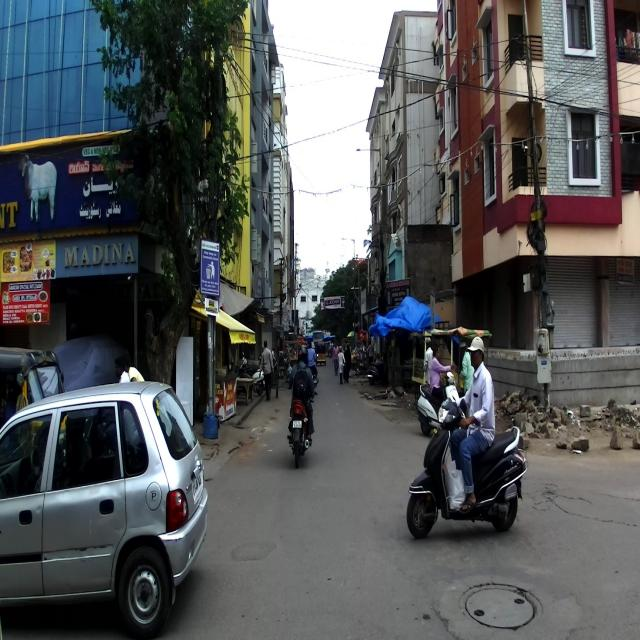autorickshaw: (0, 345, 64, 428)
car: (0, 382, 209, 637), (48, 332, 134, 393)
motorcycle: (286, 377, 317, 467)
scooter: (406, 396, 528, 539), (415, 370, 460, 436)
